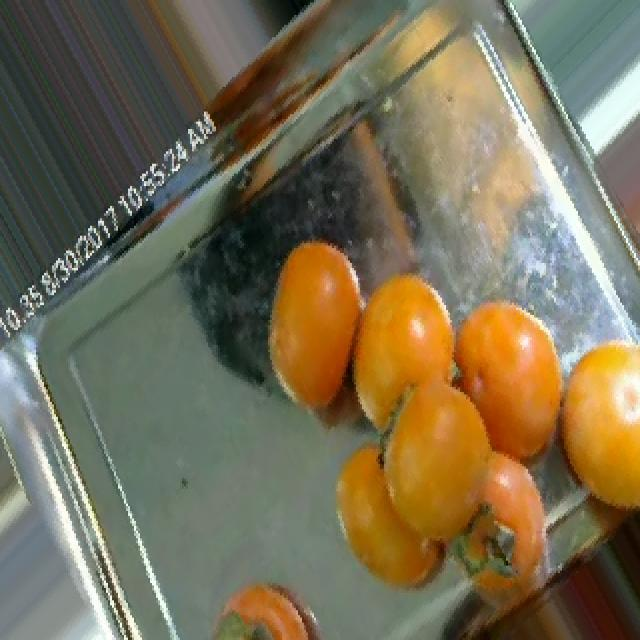Fruit: (314, 422, 482, 615), (244, 216, 384, 427), (192, 563, 342, 640), (578, 92, 640, 263), (600, 484, 640, 630)
